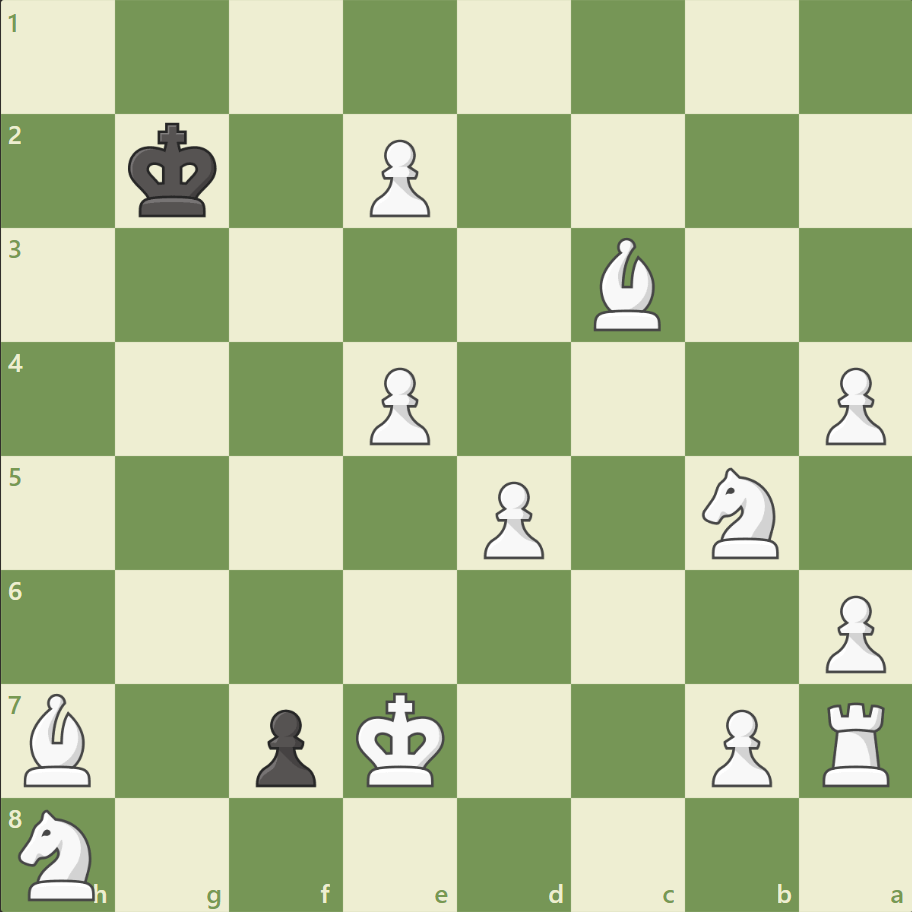B: (17, 687, 101, 790), (585, 233, 669, 336)
K: (351, 685, 451, 793)
N: (692, 461, 789, 564), (11, 802, 108, 904)
P: (701, 700, 776, 791), (474, 473, 549, 564), (815, 586, 889, 677), (815, 359, 889, 450), (361, 359, 435, 450), (361, 132, 435, 223)
R: (814, 693, 897, 790)
k: (124, 117, 224, 225)
p: (247, 700, 322, 791)
